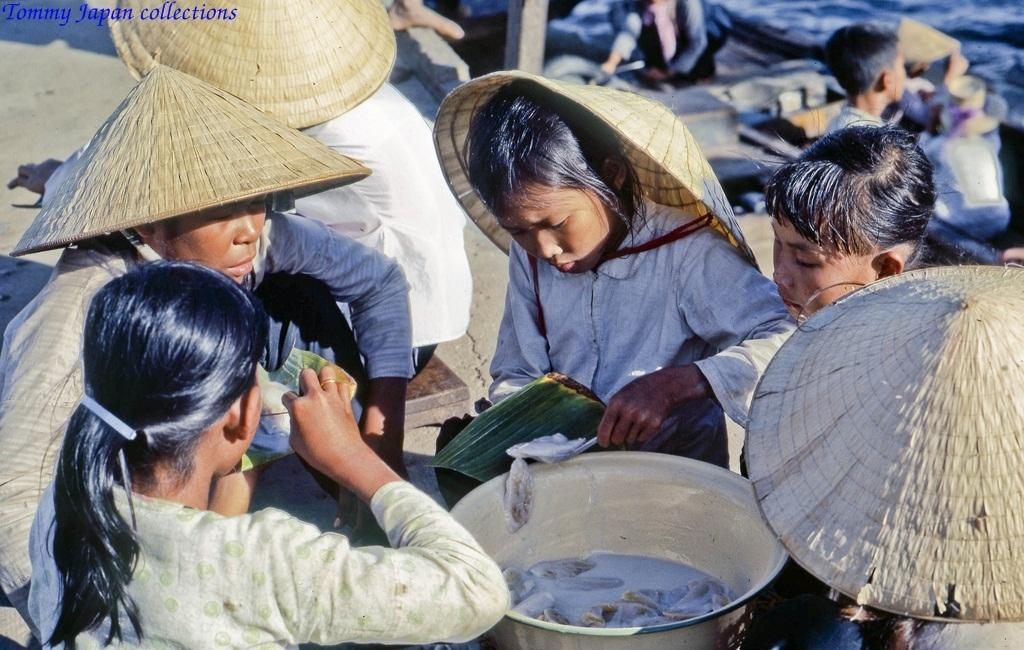Hat: (742, 258, 1022, 624), (8, 59, 376, 257), (428, 68, 762, 270), (100, 0, 396, 127), (896, 11, 960, 65)
